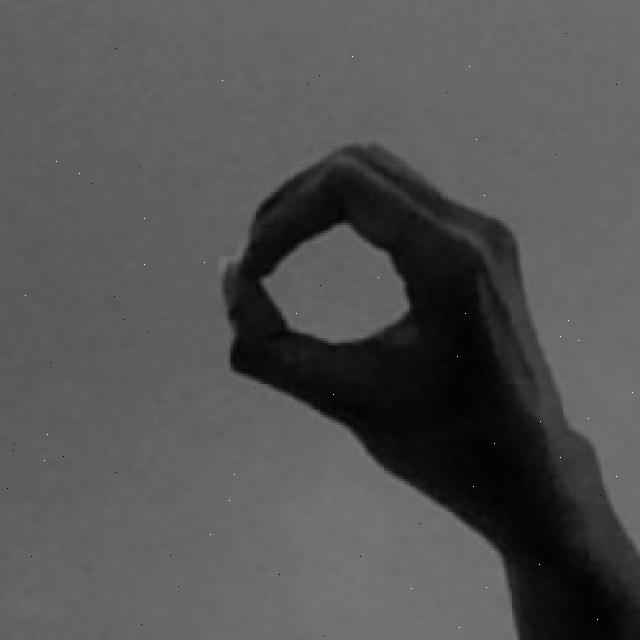O: (215, 135, 640, 640)
